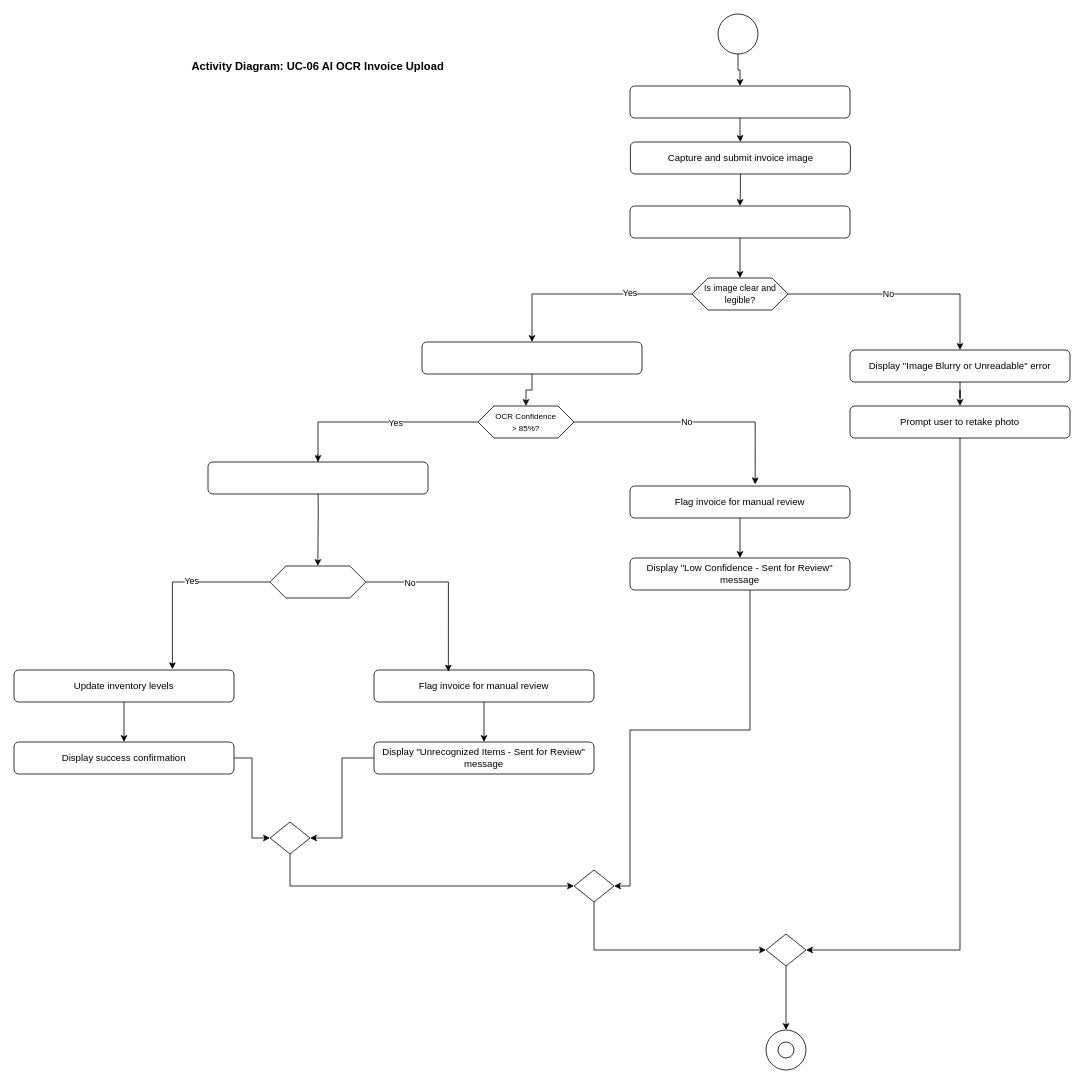
Image size: 1084x1084. Some labels were removed from this diagram. Each missing label, with the centre of its shape:
Do items match known products?: (317,581)
Extract product names, quantities, and totals: (531,357)
Process image via AI OCR module: (739,221)
Select "Upload Delivery Invoice" option: (739,101)
Validate extracted data against Cloud Database: (317,477)
